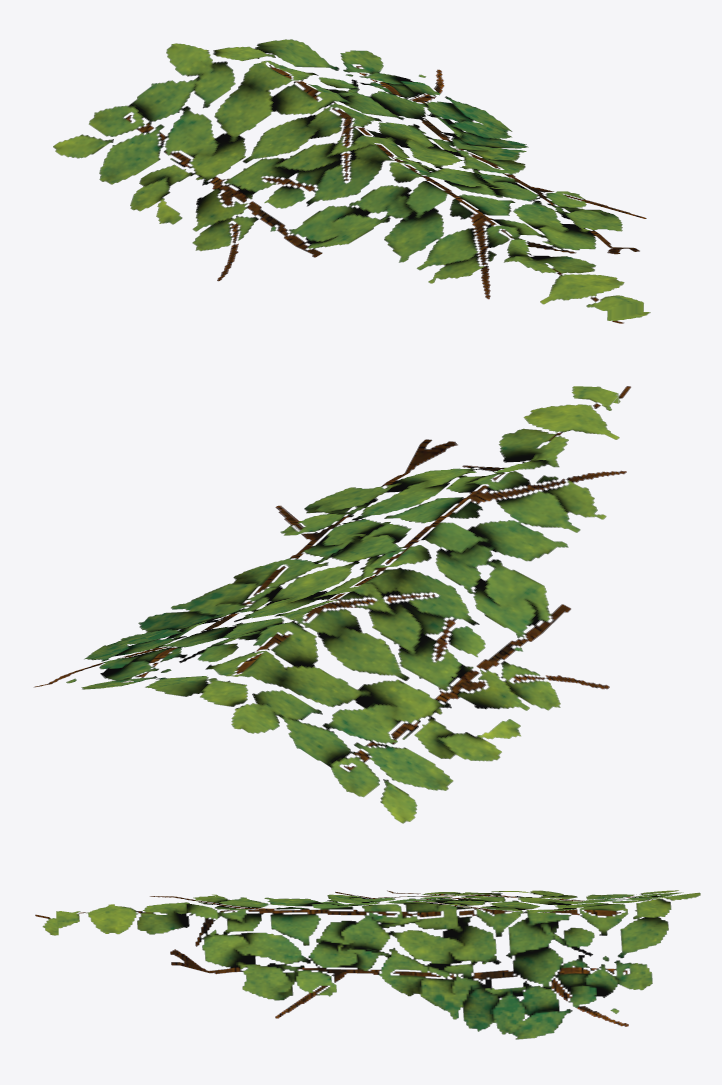
File: Bush_09.fbx
3 views of the same model, one above another, from view 1: azimuth 30°, elevation 25°; view 2: azimuth 150°, elevation 25°; view 3: azimuth 270°, elevation 25° (orthographic). The views are drawn at different scales.
Visible parts, largest first — view 1: Bush_09; view 2: Bush_09; view 3: Bush_09.
Part boxes in pixels (x1=…): Bush_09: x1=53, y1=39, x2=650, y2=323; Bush_09: x1=33, y1=386, x2=631, y2=823; Bush_09: x1=35, y1=890, x2=700, y2=1039.
Size of the model in its own units: 1.94 by 0.3524 by 3.17.
